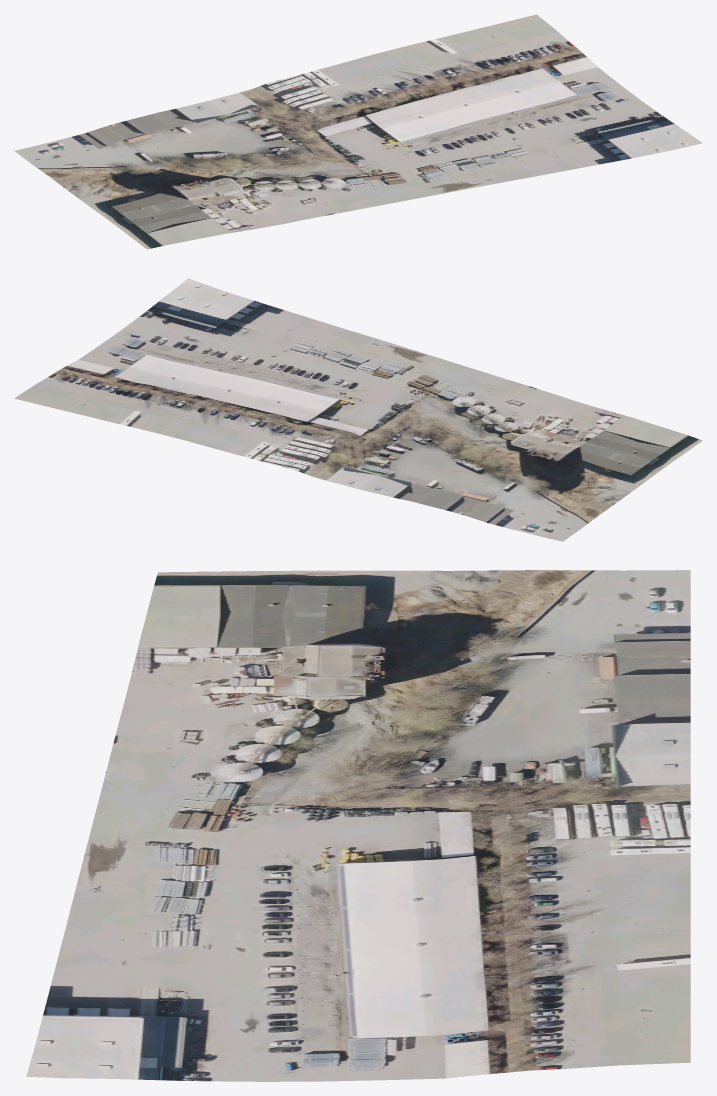
The model's file is CM_Terrain_24488820_6818565.fbx.
The picture shows the model from 3 angles, top to bottom: view 1: azimuth 30°, elevation 25°; view 2: azimuth 150°, elevation 25°; view 3: azimuth 270°, elevation 25°; orthographic projection. The views are drawn at different scales.
Visible parts, largest first — view 1: CM_Terrain_24488820_6818565_LOD0; view 2: CM_Terrain_24488820_6818565_LOD0; view 3: CM_Terrain_24488820_6818565_LOD0.
Boxes of the visible parts, <box> form: CM_Terrain_24488820_6818565_LOD0: <box>14,14,702,249</box>; CM_Terrain_24488820_6818565_LOD0: <box>14,278,702,541</box>; CM_Terrain_24488820_6818565_LOD0: <box>26,570,690,1081</box>.
Size of what is drawn, in the model's own units: 205 by 4.1 by 113.
